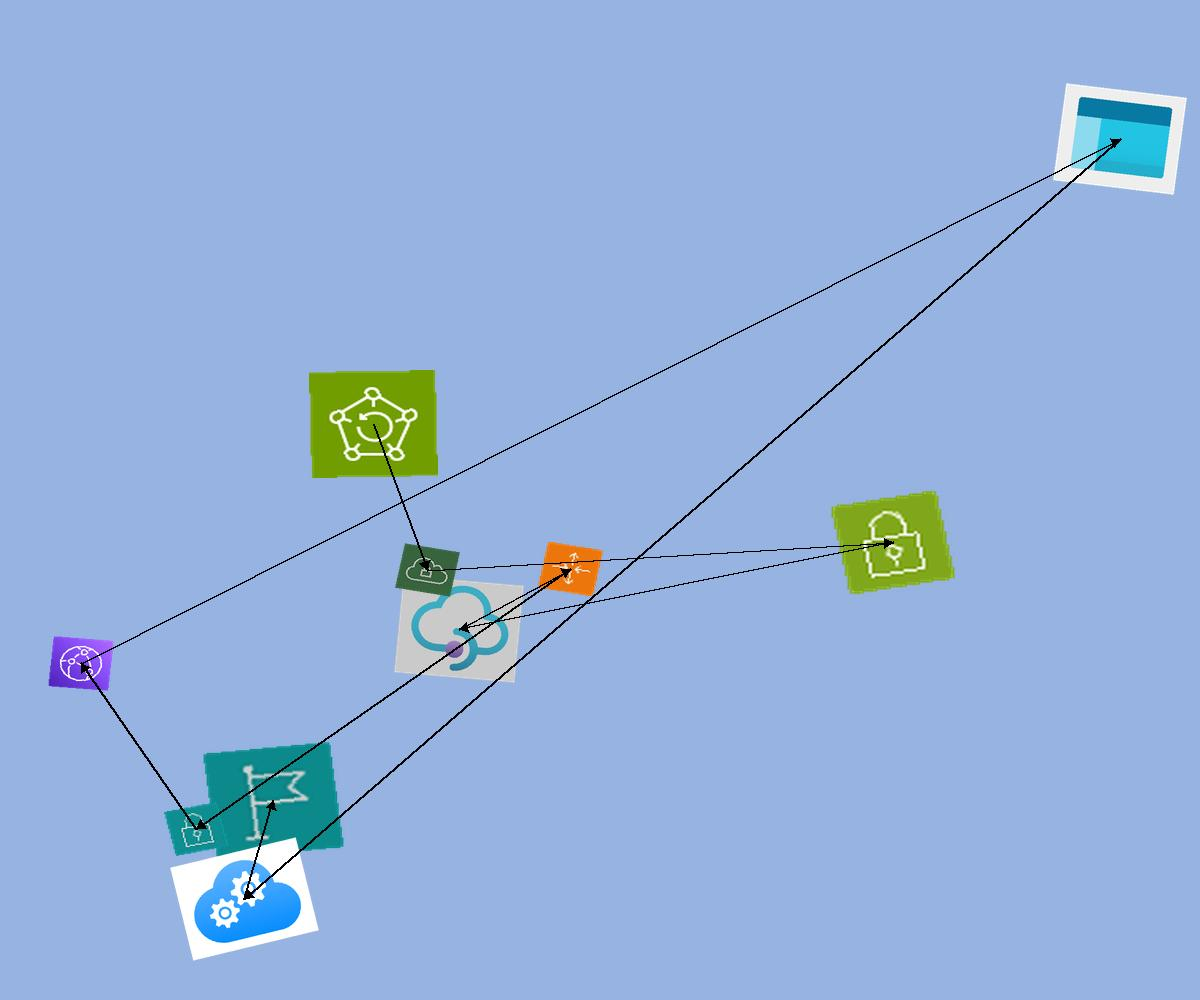AWS-Backup: (309, 370, 438, 478)
AWS-CloudFront: (48, 636, 114, 691)
AWS-Private-subnet: (164, 802, 229, 856)
AWS-Private_vpc: (395, 543, 460, 597)
AWS-Public-subnet: (829, 489, 957, 596)
AWS-Region: (202, 741, 345, 860)
AWS-Scaling-group: (537, 541, 604, 597)
Azure_api_gateway: (394, 575, 524, 683)
Azure_cloud_services: (170, 837, 319, 961)
Azure_management-portal: (1053, 83, 1187, 195)
